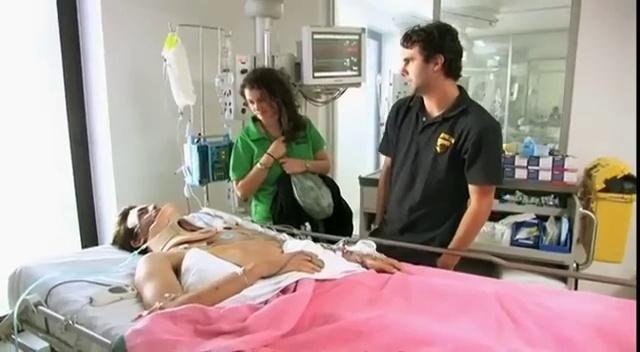others: (366, 20, 504, 274), (227, 65, 332, 236)
patient: (110, 200, 405, 318)
